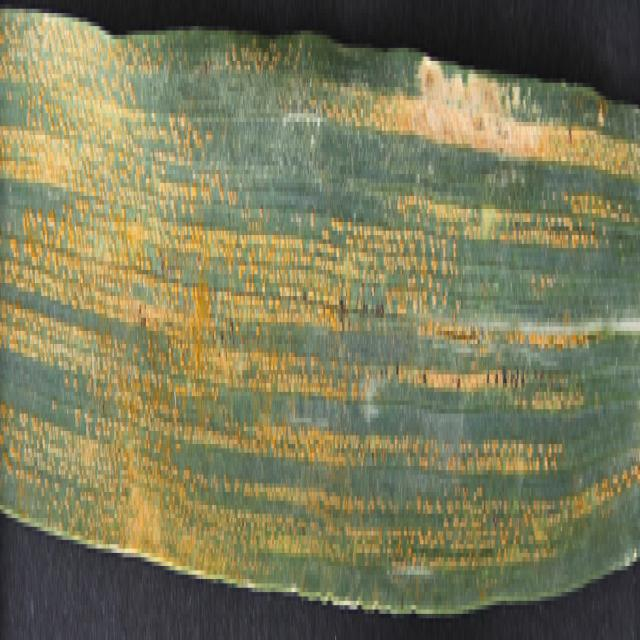leaf rust: (0, 8, 640, 561)
